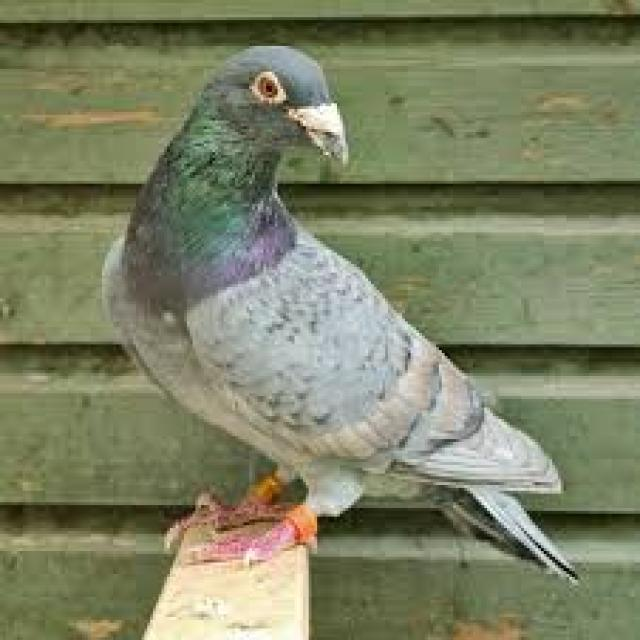pigeon: (90, 33, 584, 590)
